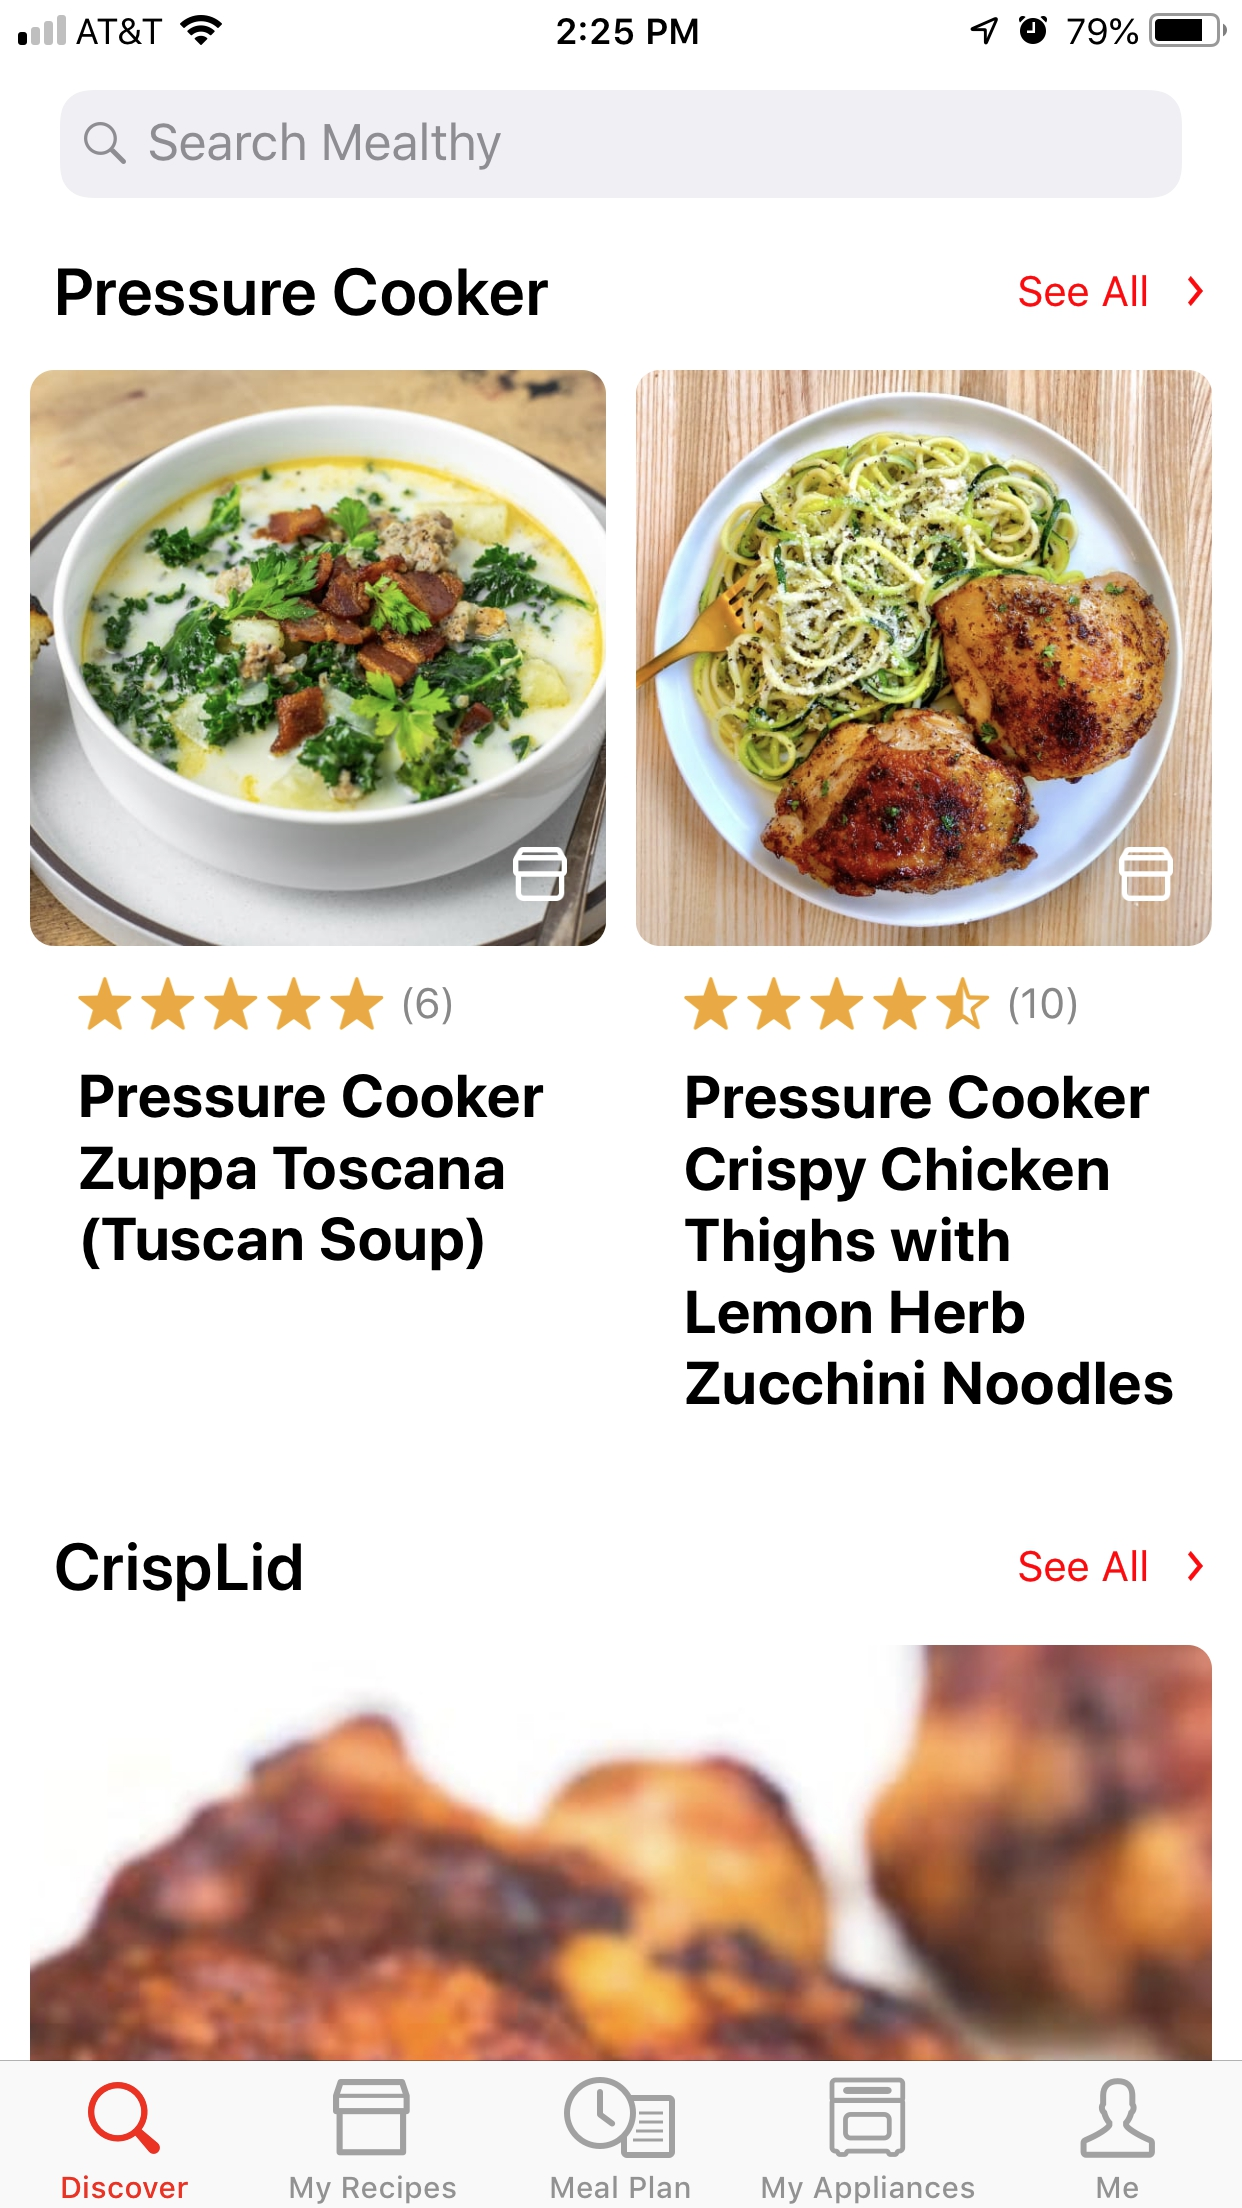EditText: (61, 89, 1183, 199)
Icon: (684, 977, 990, 1031), (79, 977, 385, 1031), (563, 2078, 676, 2159), (1080, 2078, 1156, 2159), (334, 2078, 411, 2156), (830, 2078, 905, 2158), (89, 2082, 162, 2155), (513, 846, 569, 902), (1118, 848, 1174, 902), (83, 121, 127, 165), (1187, 276, 1204, 308), (1187, 1551, 1204, 1582)
Image: (30, 1644, 1213, 2059), (635, 370, 1213, 946), (30, 370, 607, 946)
Text: (685, 1075, 1174, 1406), (80, 1074, 544, 1272), (58, 268, 550, 318), (149, 121, 503, 171), (56, 1541, 303, 1603), (761, 2175, 975, 2205), (290, 2175, 456, 2203), (1019, 274, 1146, 309), (1019, 1548, 1146, 1583), (550, 2175, 692, 2199), (62, 2175, 190, 2199), (1008, 986, 1077, 1027), (403, 987, 452, 1027), (1096, 2176, 1139, 2199)
UpperTaskBar: (2, 2, 1242, 49)
